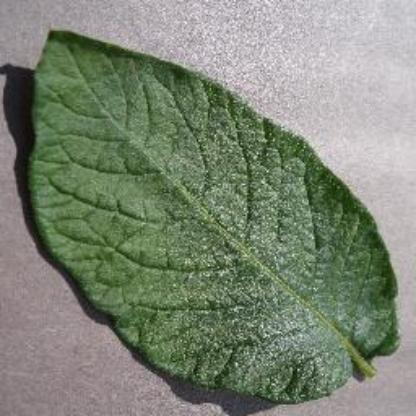Healthy-plant: (26, 17, 406, 405)
